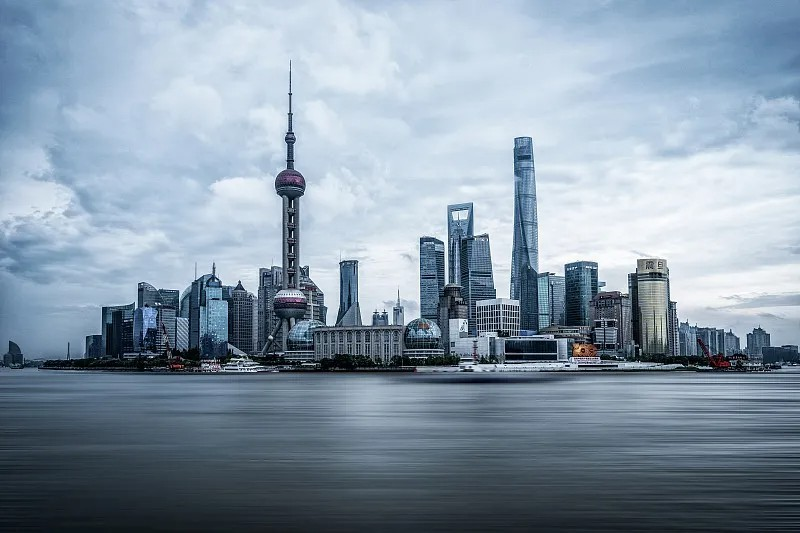Oriental: (262, 58, 307, 352)
